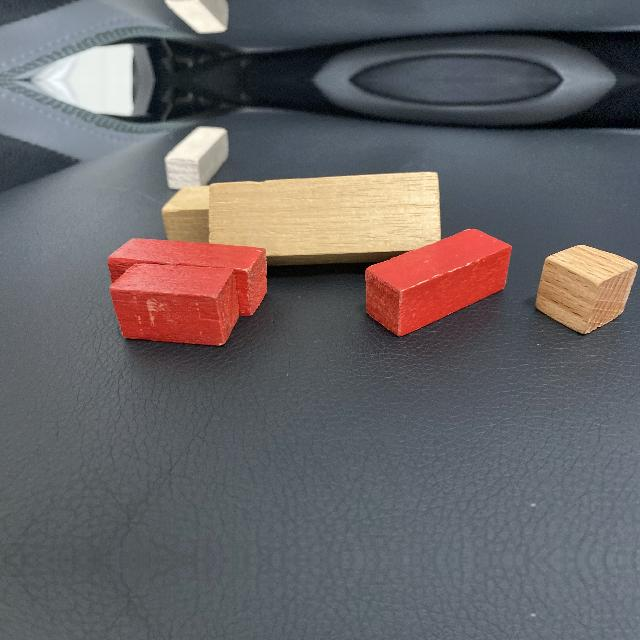block: (164, 126, 228, 190), (164, 0, 228, 34)
cube: (534, 244, 638, 335)
jenga: (209, 171, 441, 266)
red block: (365, 228, 512, 337), (108, 238, 268, 317), (109, 263, 240, 346)
